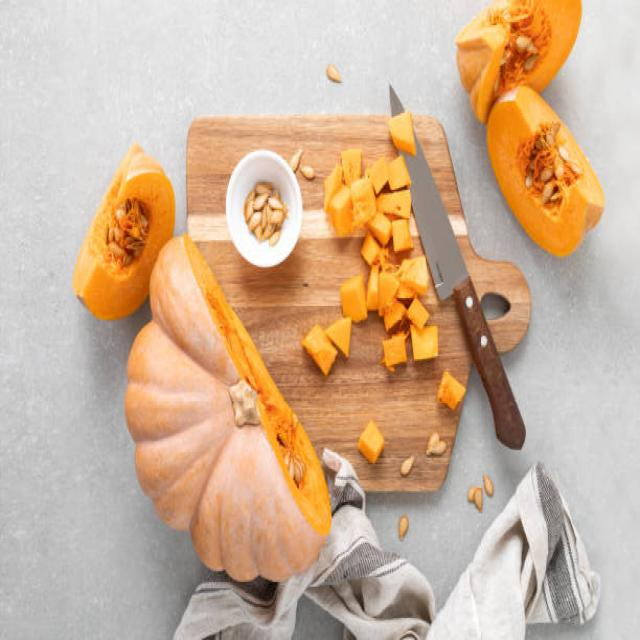Pumpkin: (127, 233, 330, 582), (489, 85, 604, 258), (71, 142, 169, 316), (452, 0, 584, 89)
